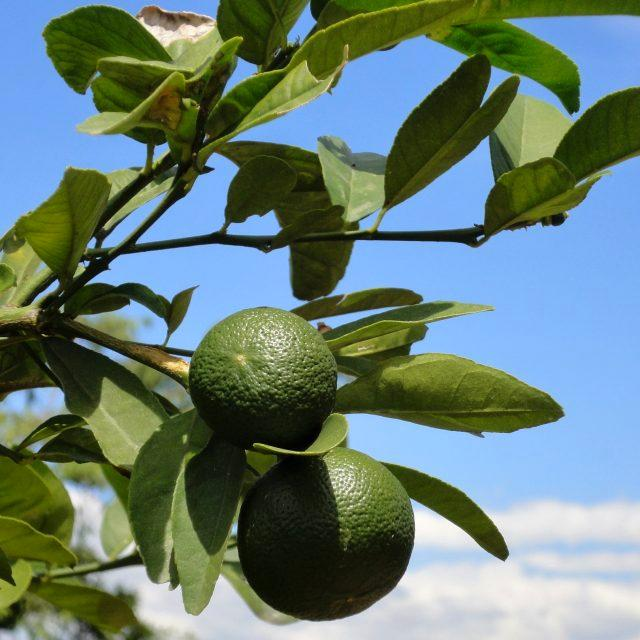lime: (230, 440, 423, 623), (180, 294, 342, 456)
